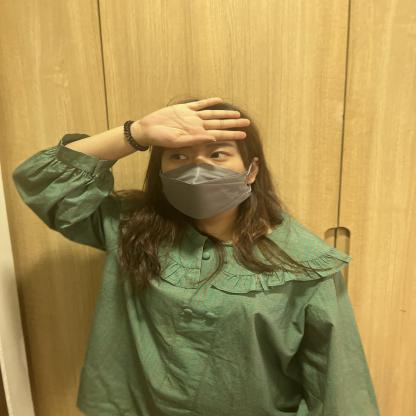Sick: (69, 40, 387, 261)
